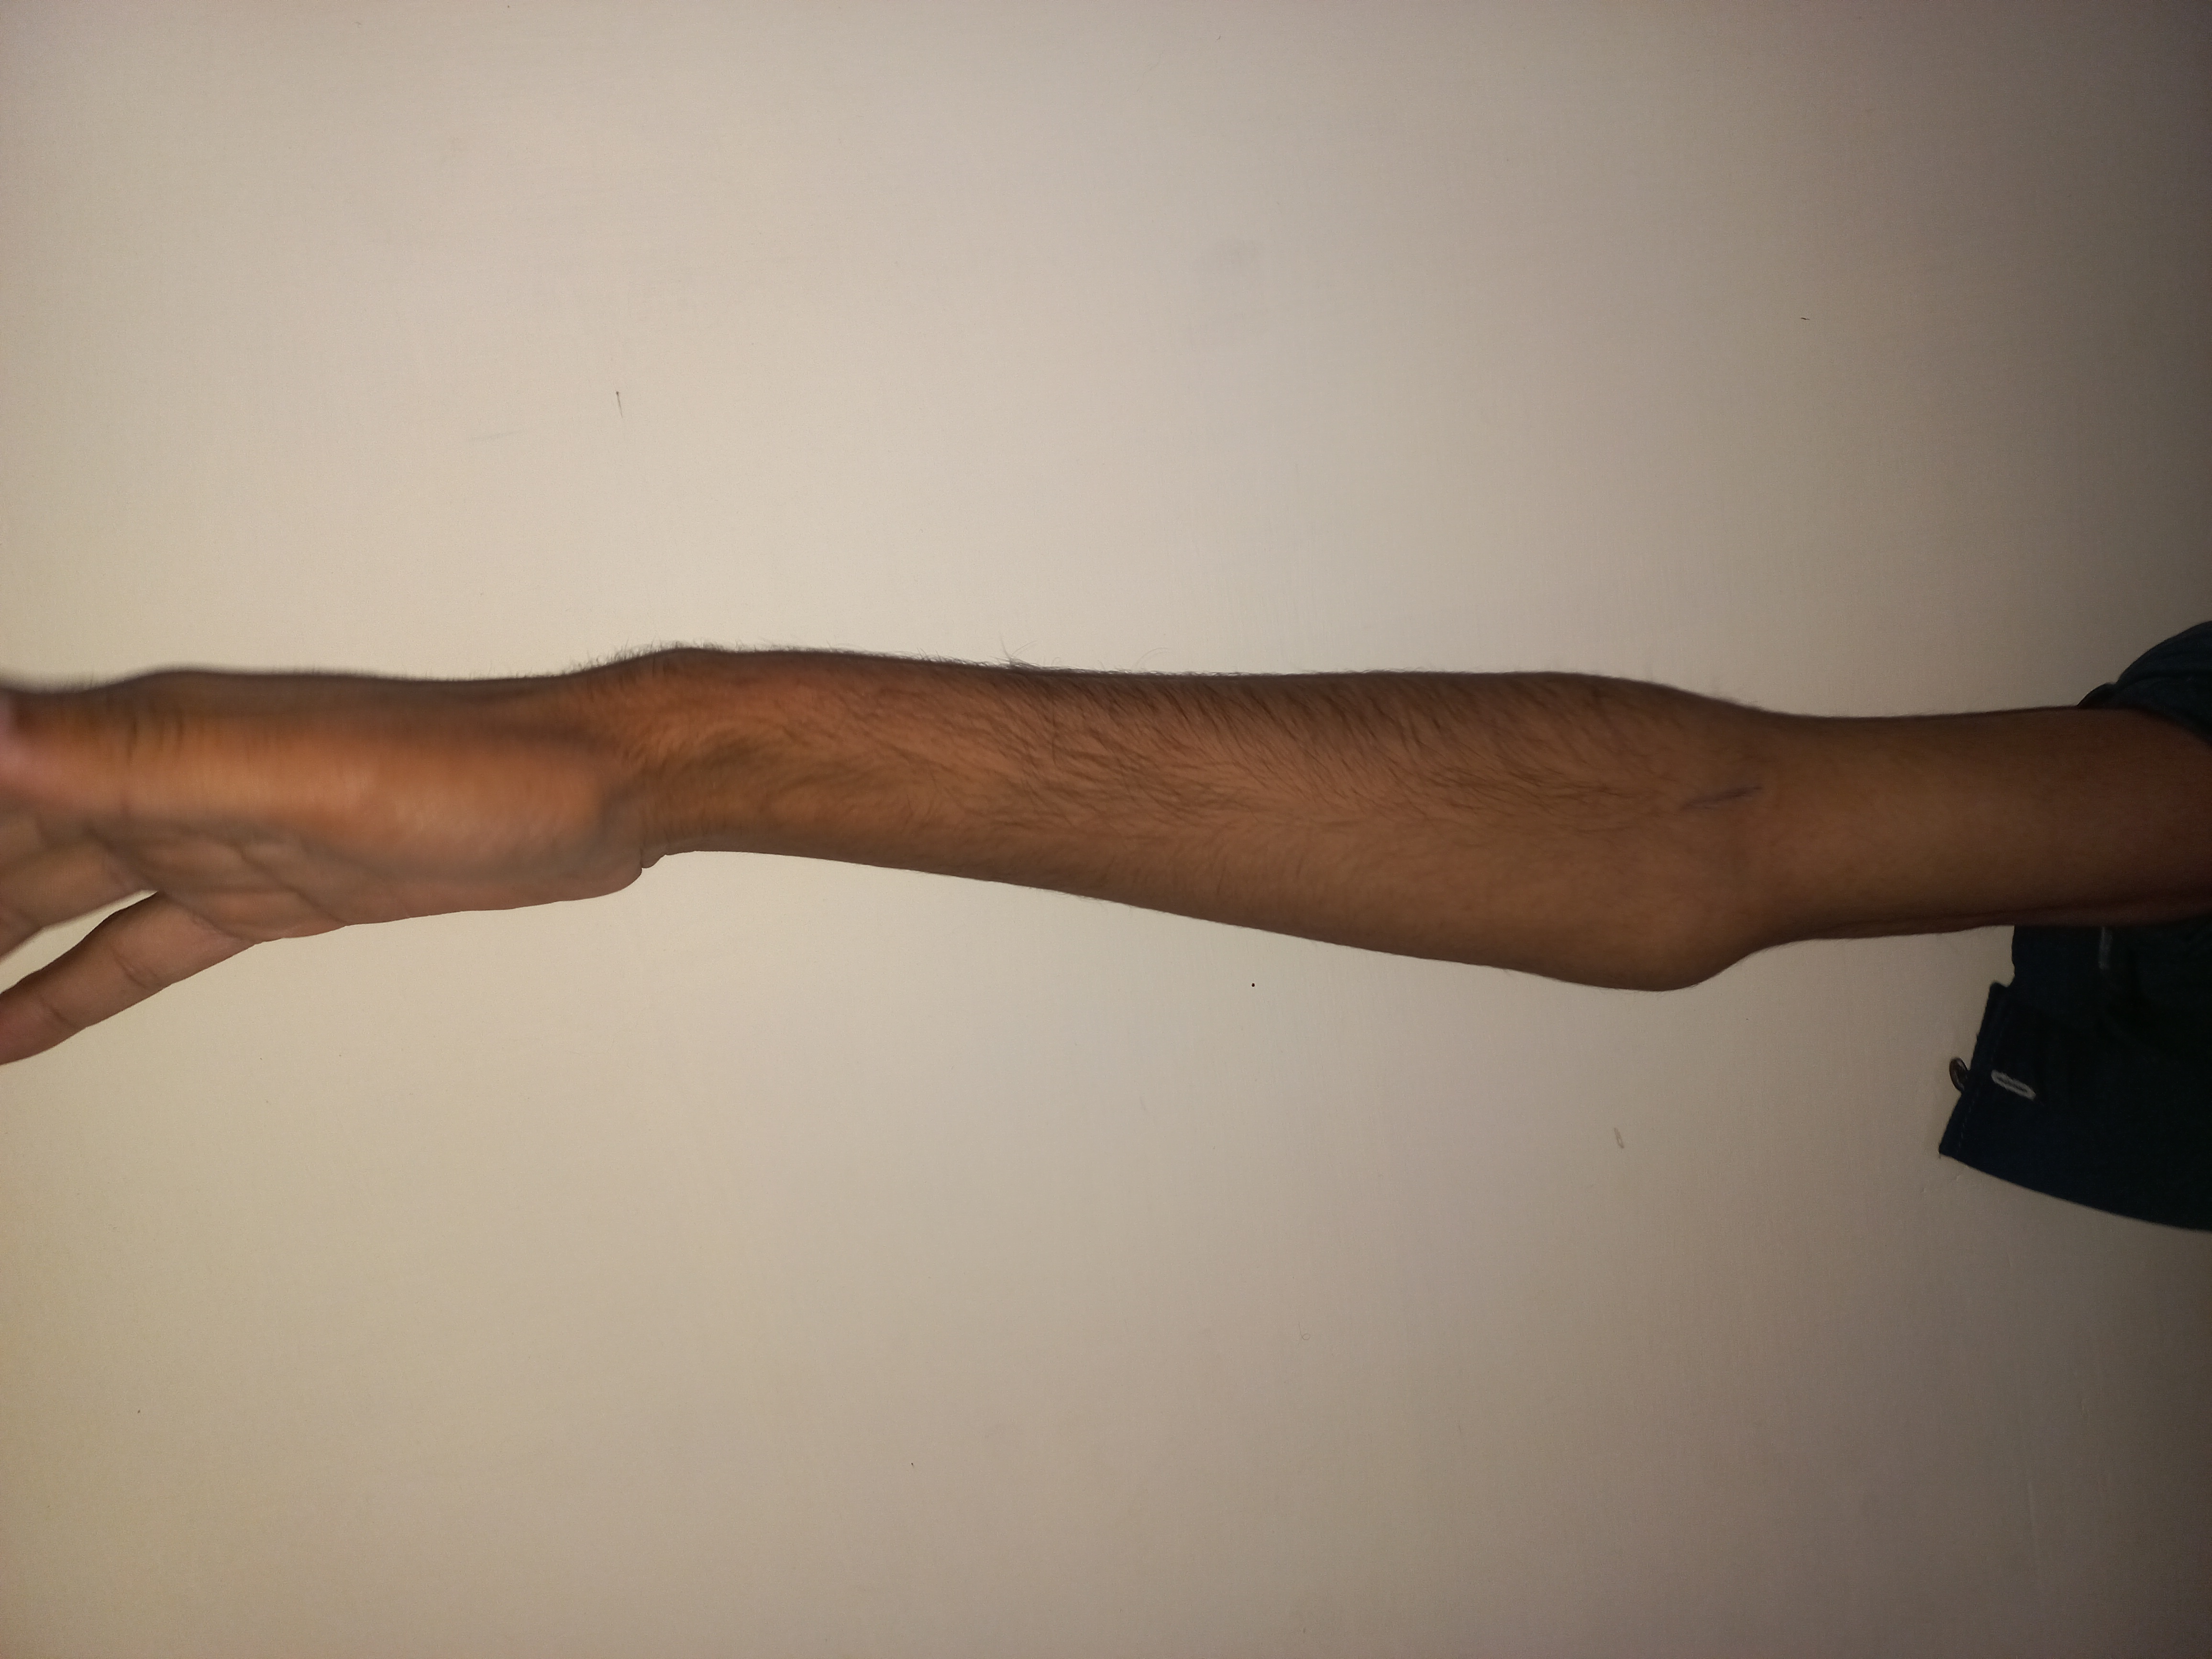vein: (1669, 781, 1797, 809)
